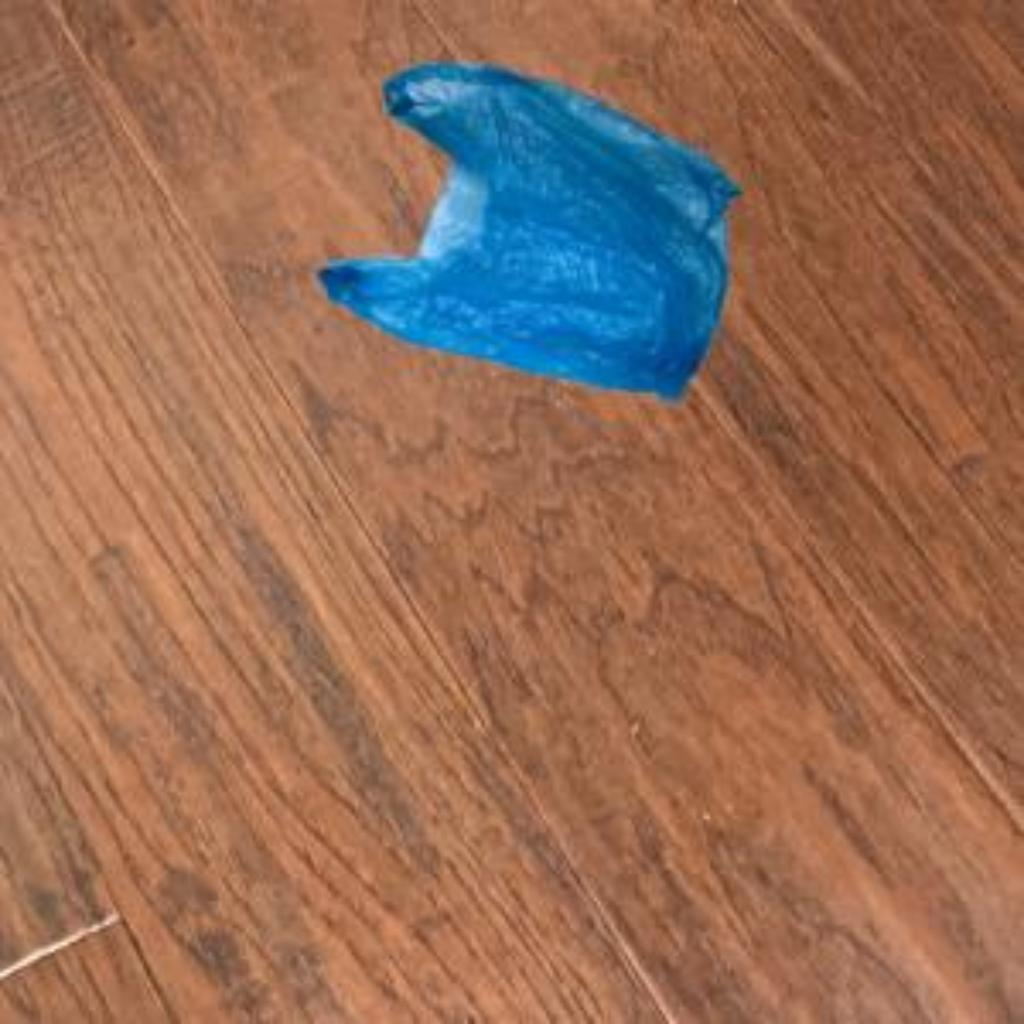garbage: (304, 48, 826, 427)
